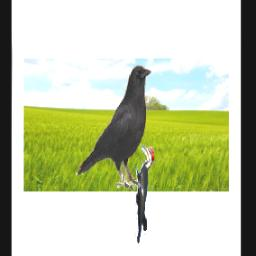Crow: (76, 62, 151, 189)
Woodpecker: (134, 144, 154, 244)
